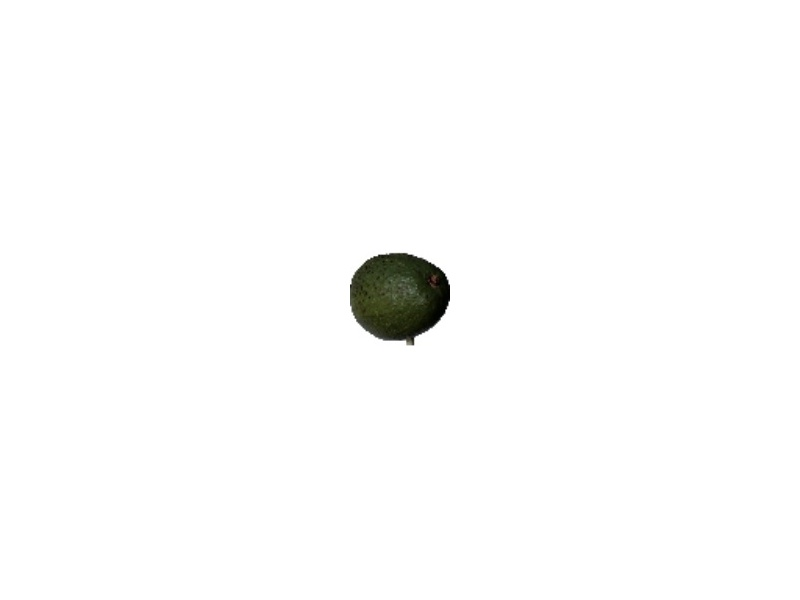abacate: (344, 251, 455, 342)
